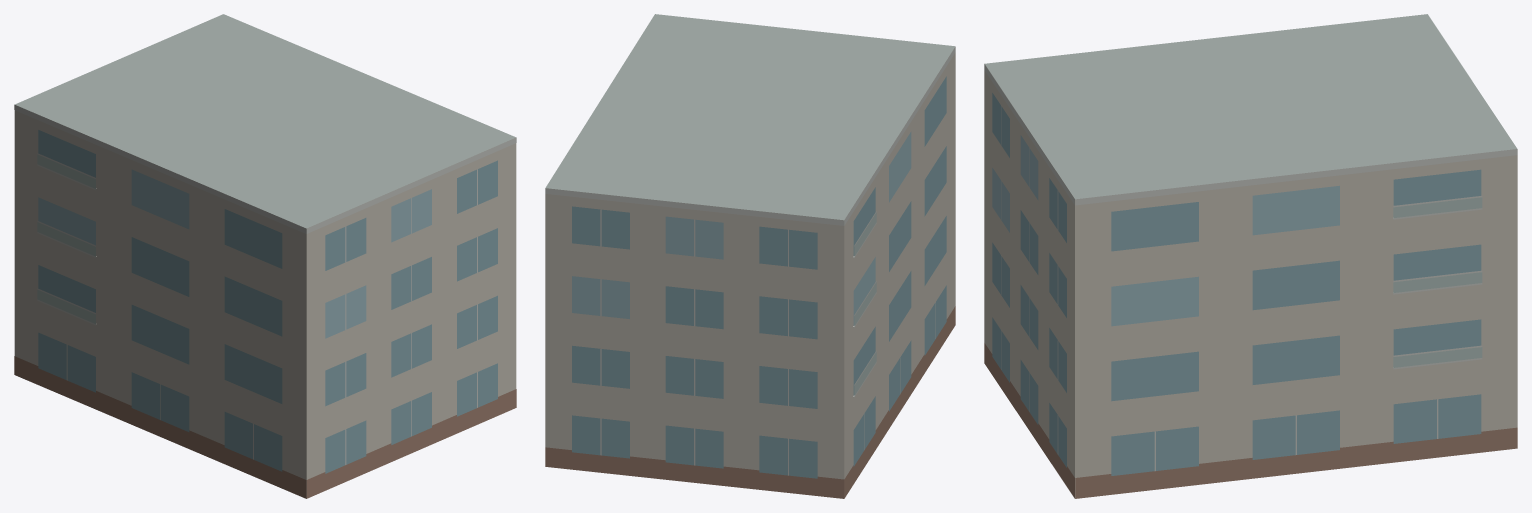
File: survey-upis-32978017.glb
The picture shows the model from 3 angles, left to right: view 1: azimuth 30°, elevation 25°; view 2: azimuth 150°, elevation 25°; view 3: azimuth 270°, elevation 25°; orthographic projection. The views are drawn at different scales.
Visible parts, largest first — view 1: survey-upis-32978017.tmp; view 2: survey-upis-32978017.tmp; view 3: survey-upis-32978017.tmp.
Boxes of the visible parts, x1,y1,x2,y2 form: survey-upis-32978017.tmp: (14, 14, 516, 498); survey-upis-32978017.tmp: (545, 14, 955, 498); survey-upis-32978017.tmp: (984, 14, 1517, 498).
Bounding box in the file's own units: 15.67 × 11.8 × 19.04.
